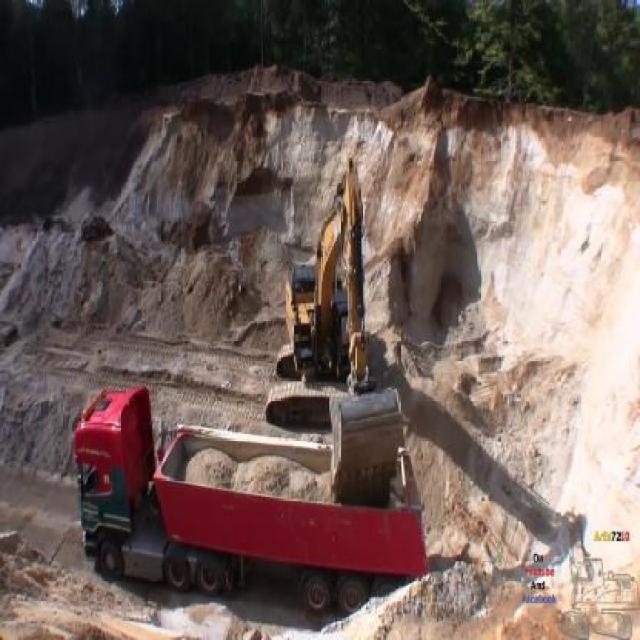Dump Truck: (70, 378, 428, 614)
Excavator: (263, 154, 408, 503)
